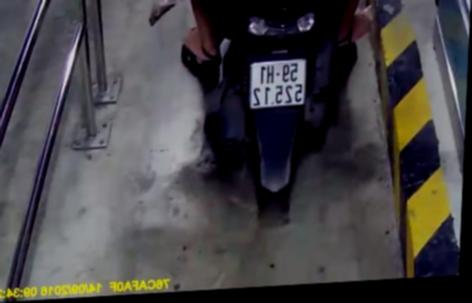License_Plate: (241, 53, 314, 117)
